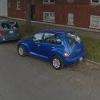Car: (13, 22, 92, 73)
